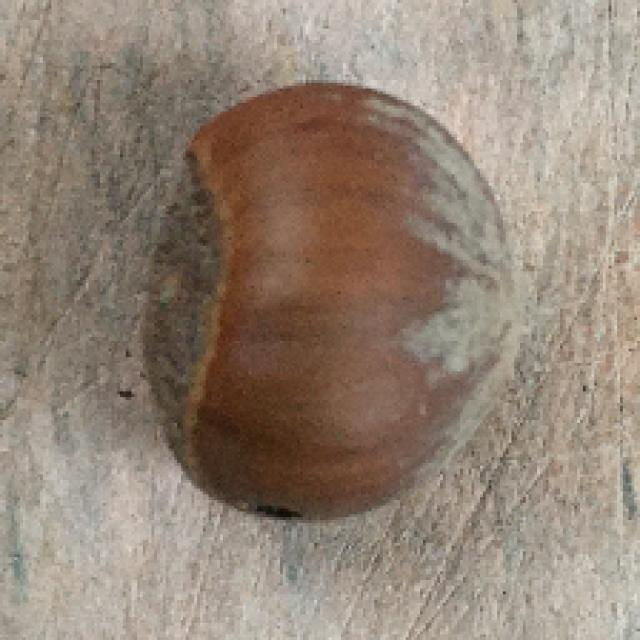qualityHazelnut: (138, 82, 520, 527)
